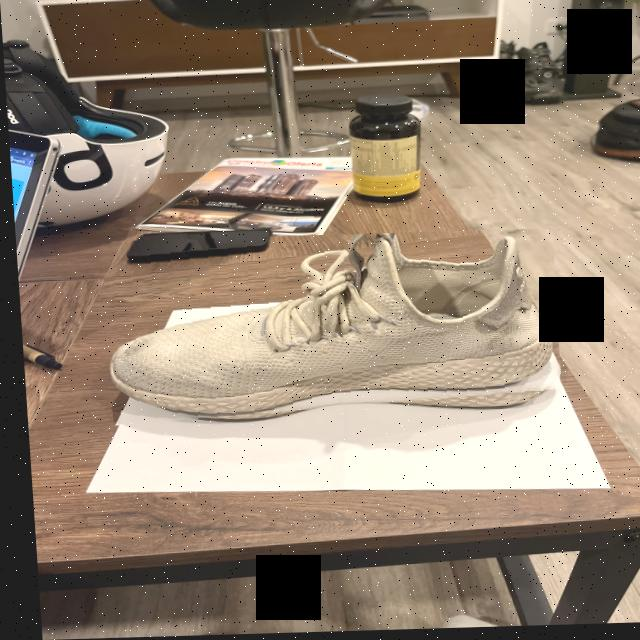shoe: (98, 231, 560, 426)
